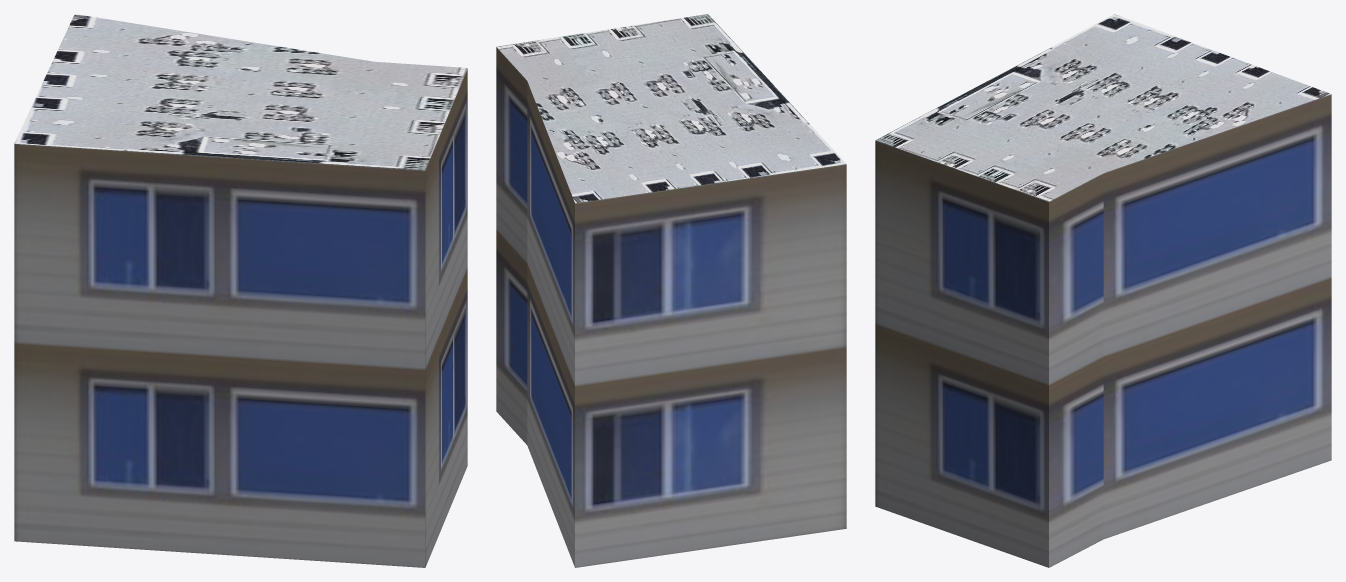
The model's file is ResTex__4307.fbx.
3 views of the same model, side by side, from view 1: azimuth 30°, elevation 25°; view 2: azimuth 150°, elevation 25°; view 3: azimuth 270°, elevation 25° (orthographic). The views are drawn at different scales.
Parts seen in each view (by area): view 1: CityEngineMaterial_23_m, CityEngineMaterial_m; view 2: CityEngineMaterial_23_m, CityEngineMaterial_m; view 3: CityEngineMaterial_23_m, CityEngineMaterial_m.
Boxes of the visible parts, x1,y1,x2,y2 form: CityEngineMaterial_23_m: (14, 69, 467, 567); CityEngineMaterial_m: (14, 14, 467, 170); CityEngineMaterial_23_m: (496, 47, 846, 567); CityEngineMaterial_m: (496, 14, 846, 203); CityEngineMaterial_23_m: (875, 94, 1331, 567); CityEngineMaterial_m: (875, 14, 1331, 201).
Size of the model in its own units: 6.6 by 6 by 6.78.
Materials: 2 (2 with a texture image).
